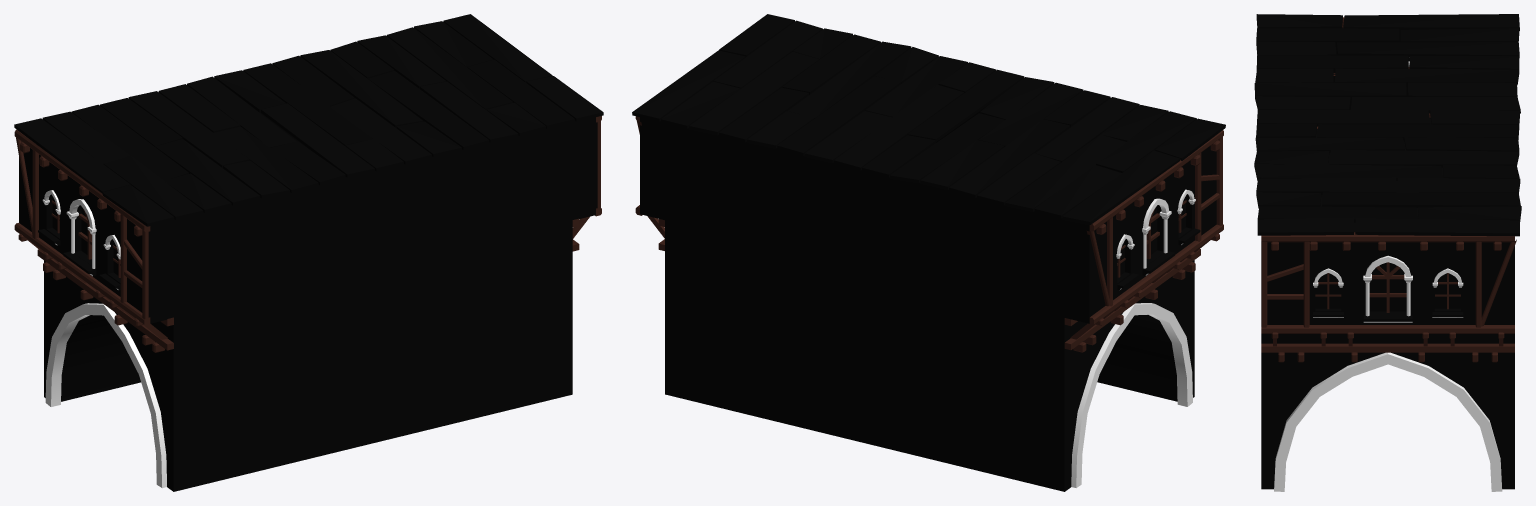
The model's file is civilian_house_24_b.FBX.
3 renders of one model, left to right at view 1: azimuth 30°, elevation 25°; view 2: azimuth 150°, elevation 25°; view 3: azimuth 270°, elevation 25°, orthographic. The views are drawn at different scales.
Parts seen in each view (by area): view 1: civilian_house_24_b; view 2: civilian_house_24_b; view 3: civilian_house_24_b.
Part boxes in pixels (box(x1,y1,x2,y2)): civilian_house_24_b: box(14, 14, 603, 491); civilian_house_24_b: box(632, 14, 1225, 491); civilian_house_24_b: box(1254, 14, 1521, 491).
Size of the model in its own units: 1243 by 711 by 633.
